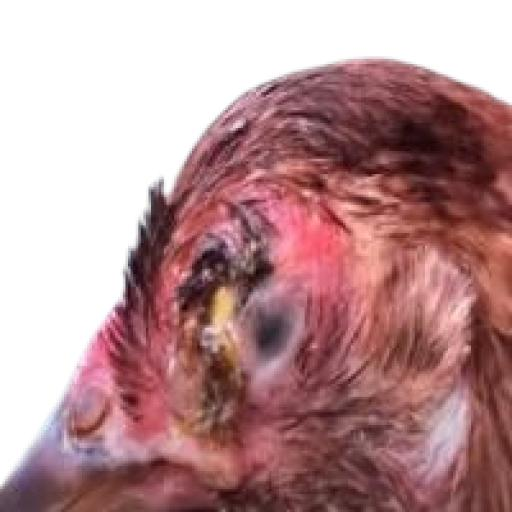disease: (163, 186, 303, 446)
